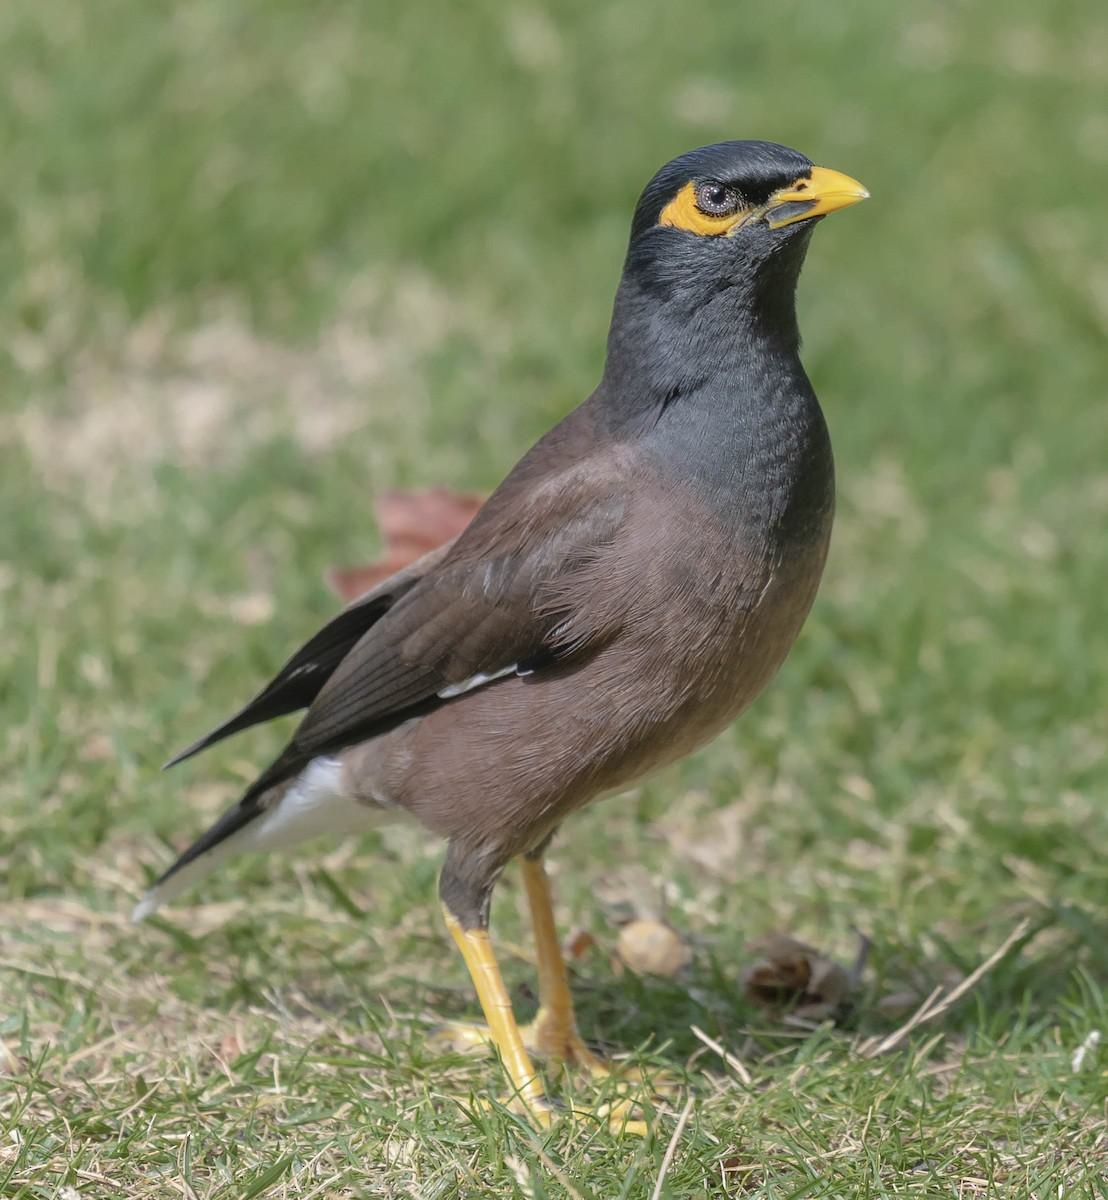myna: (186, 111, 900, 1066)
